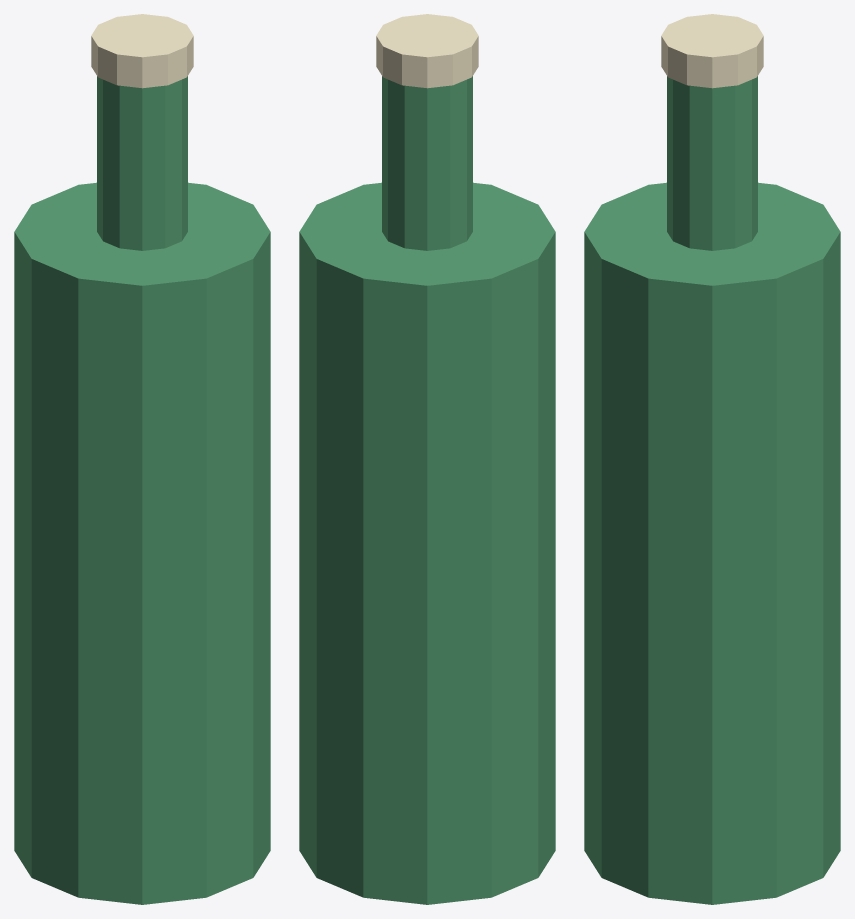
The model's file is sm_product_bottle.glb.
The picture shows the model from 3 angles, left to right: view 1: azimuth 30°, elevation 25°; view 2: azimuth 150°, elevation 25°; view 3: azimuth 270°, elevation 25°; orthographic projection.
Parts seen in each view (by area): view 1: bottle_0, bottle_1, bottle_2; view 2: bottle_0, bottle_1, bottle_2; view 3: bottle_0, bottle_1, bottle_2.
Part boxes in pixels (left/top/right/bottom): bottle_0: left=14, top=182, right=270, bottom=904; bottle_1: left=97, top=76, right=187, bottom=250; bottle_2: left=91, top=14, right=193, bottom=88; bottle_0: left=299, top=182, right=555, bottom=904; bottle_1: left=382, top=76, right=472, bottom=250; bottle_2: left=376, top=14, right=478, bottom=88; bottle_0: left=584, top=182, right=840, bottom=904; bottle_1: left=667, top=76, right=757, bottom=250; bottle_2: left=661, top=14, right=763, bottom=88.
Size of what is drawn, in the model's own units: 0.09 by 0.316 by 0.09.
